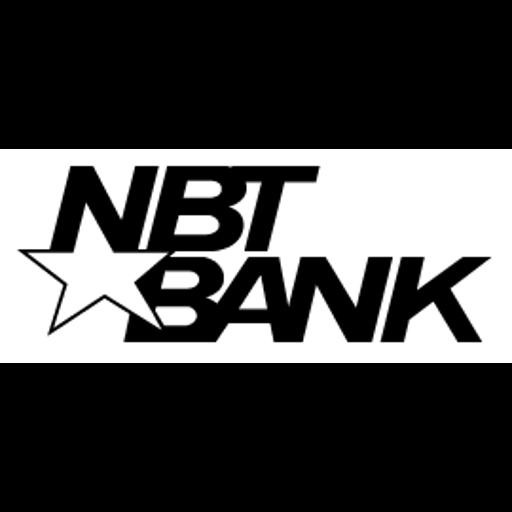NBT Bank: (0, 149, 512, 363)
